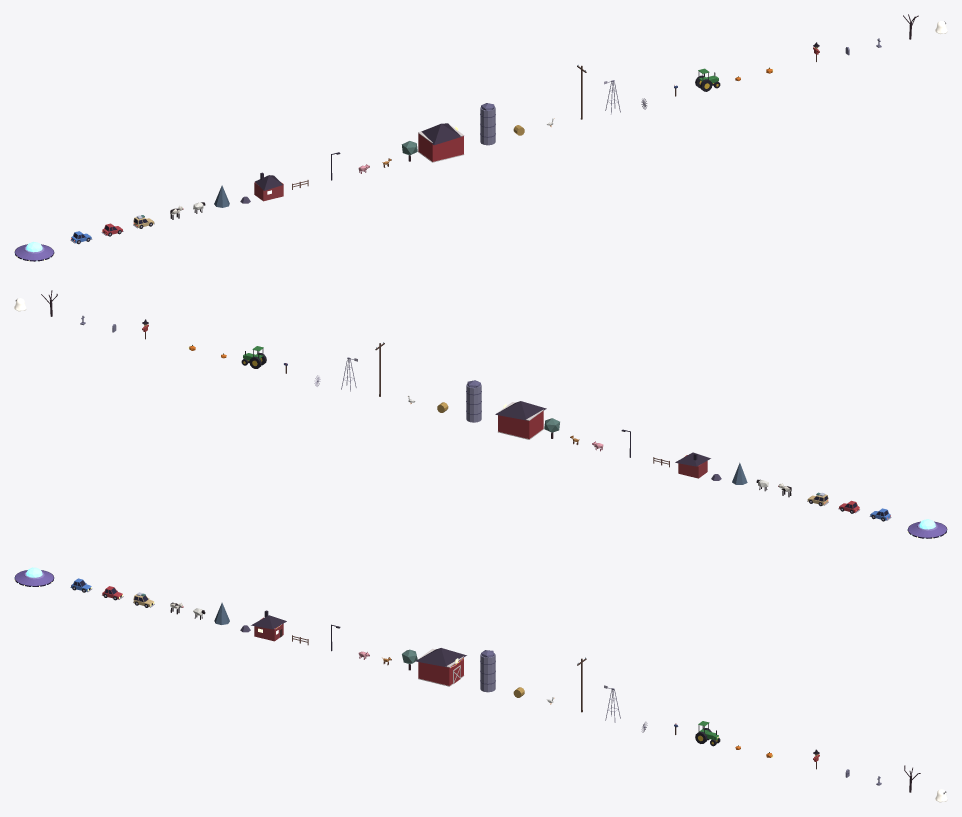
The model's file is models.glb.
The picture shows the model from 3 angles, top to bottom: view 1: azimuth 30°, elevation 25°; view 2: azimuth 150°, elevation 25°; view 3: azimuth 330°, elevation 25°; orthographic projection.
Parts seen in each view (by area): view 1: base.001, body.007; view 2: base.001, body.007, roof.004; view 3: base.001, body.007, roof.004.
Boxes of the visible parts, <box> form: base.001: <box>418,133,463,161</box>; body.007: <box>480,106,495,145</box>; base.001: <box>498,411,543,438</box>; body.007: <box>466,383,481,422</box>; roof.004: <box>495,401,546,420</box>; base.001: <box>418,657,463,685</box>; body.007: <box>480,653,495,692</box>; roof.004: <box>415,648,466,667</box>.
Bounding box in the file's own units: 119 × 7.16 × 4.56.
